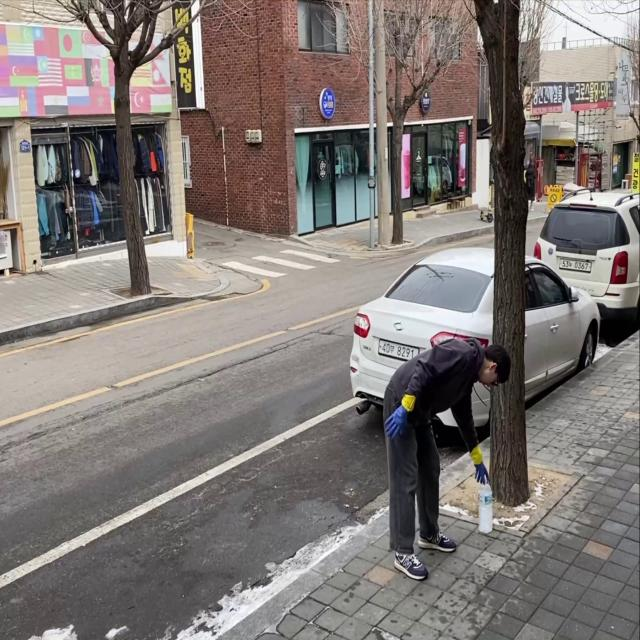gloved_hand: (381, 402, 407, 438), (471, 459, 493, 487)
